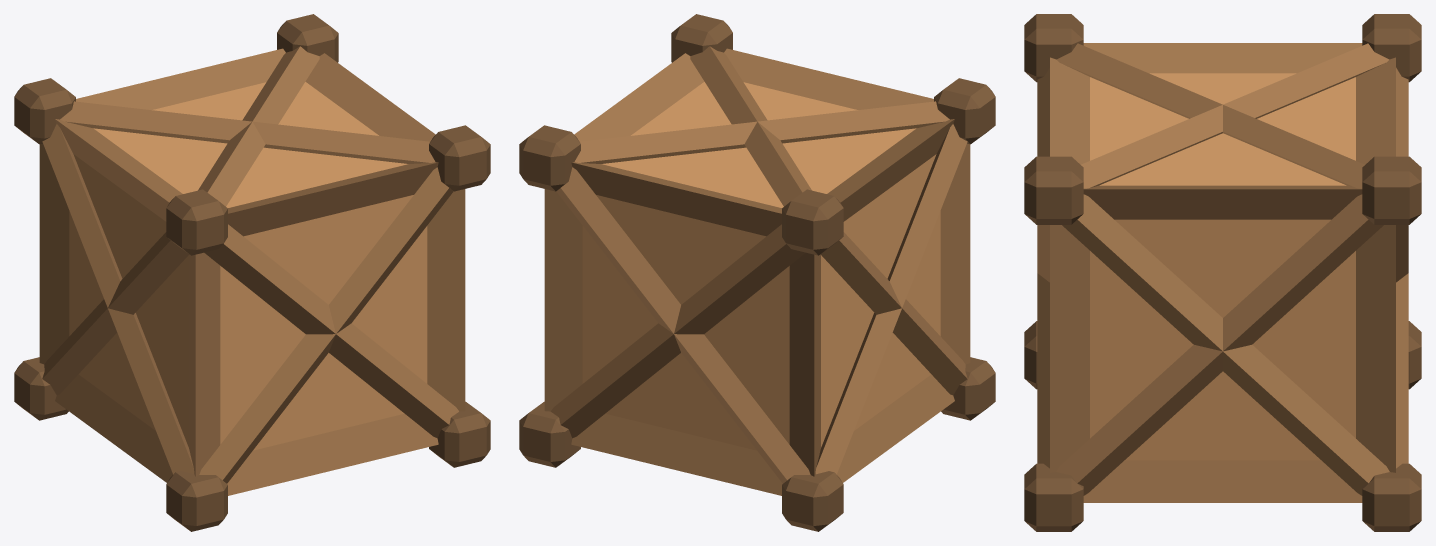
The model's file is Caja Madera.fbx.
The picture shows the model from 3 angles, left to right: view 1: azimuth 30°, elevation 25°; view 2: azimuth 150°, elevation 25°; view 3: azimuth 270°, elevation 25°; orthographic projection. The views are drawn at different scales.
Visible parts, largest first — view 1: Caja Madera; view 2: Caja Madera; view 3: Caja Madera.
Part boxes in pixels (x1,y1,x2,y2): Caja Madera: (14, 14, 490, 531); Caja Madera: (519, 14, 995, 531); Caja Madera: (1024, 14, 1421, 531).
Size of the model in its own units: 352 by 353 by 352.
